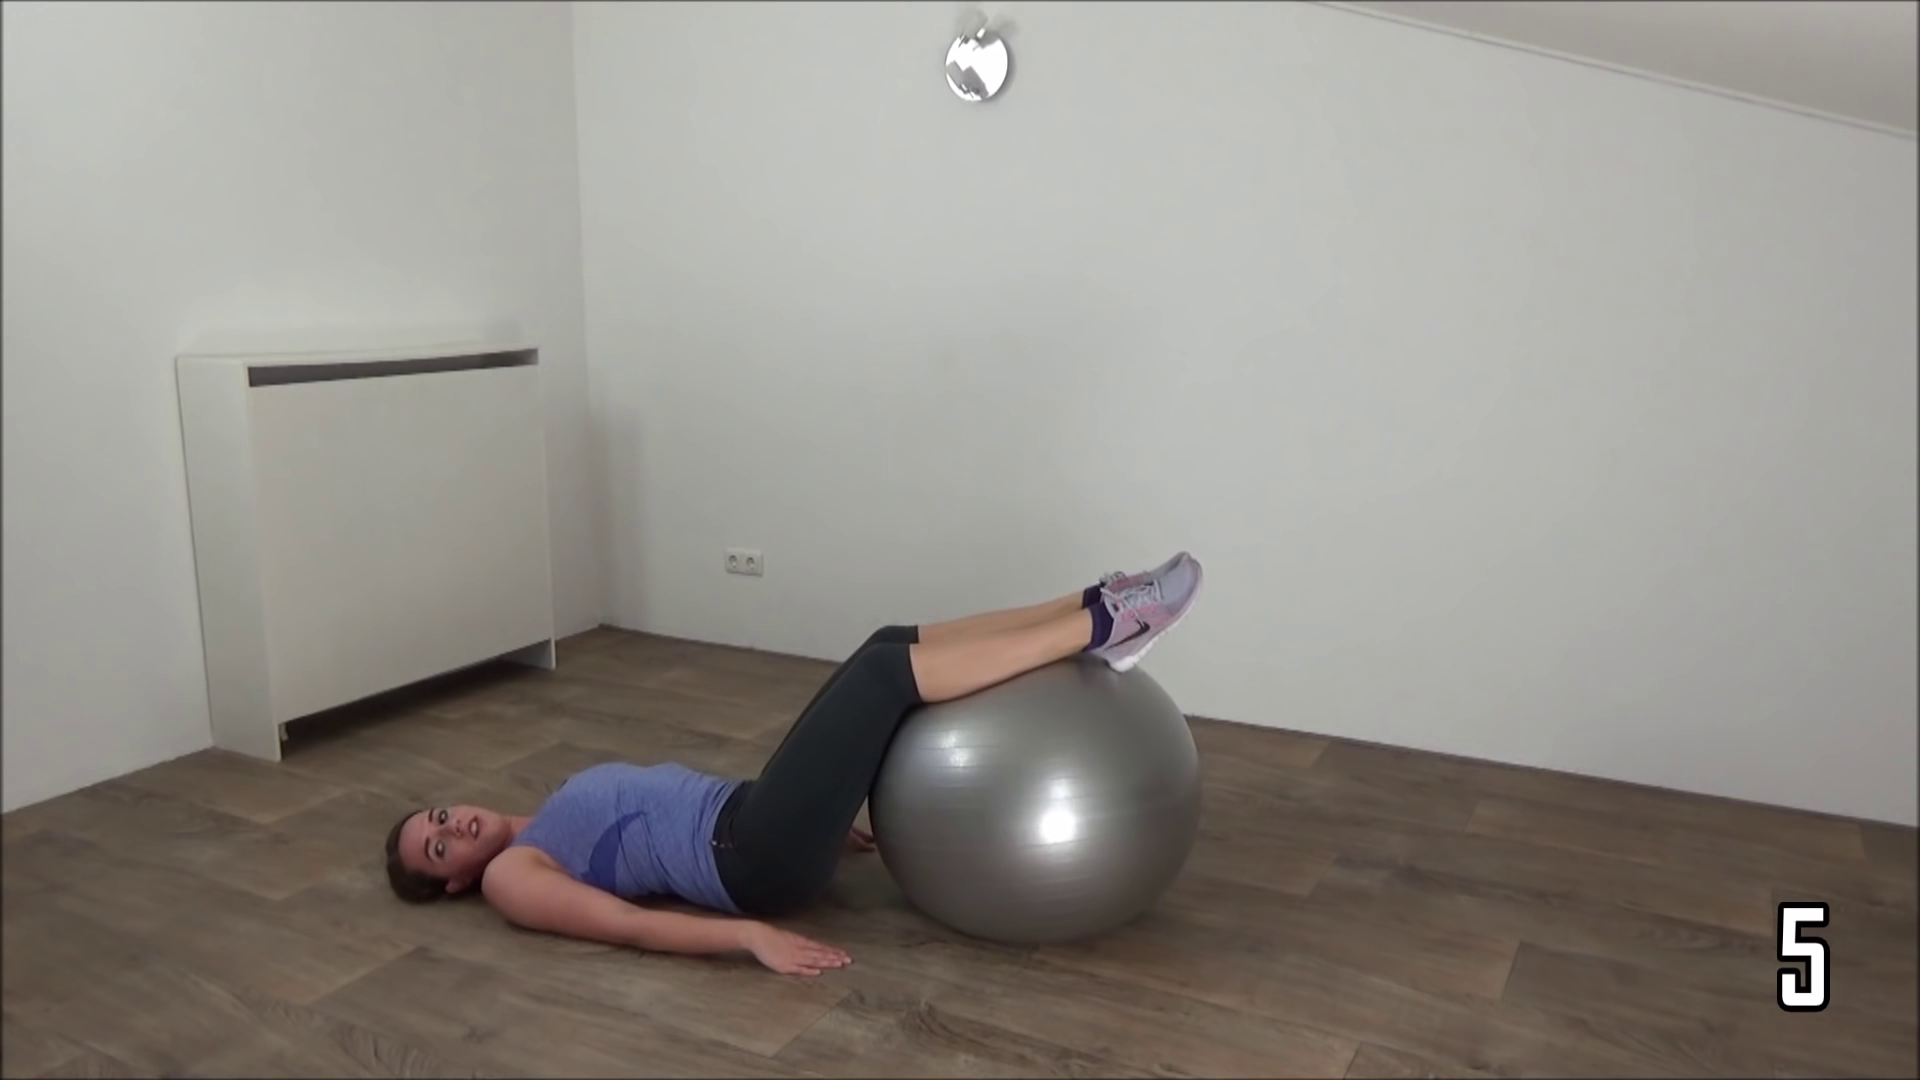yogaball: (860, 624, 1226, 965)
